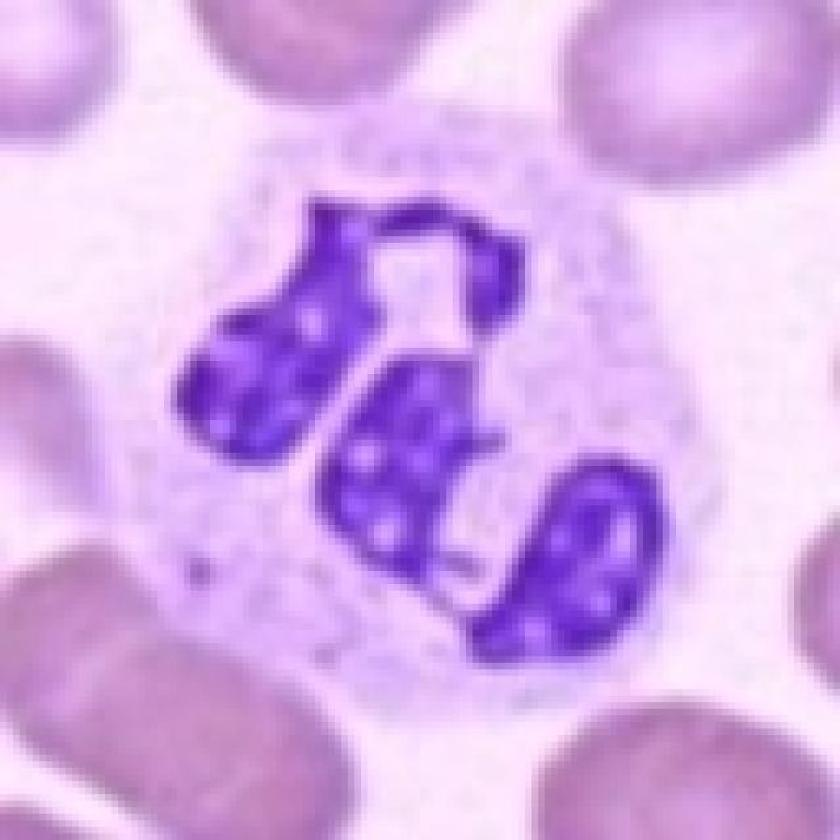neutrophil: (113, 100, 707, 728)
